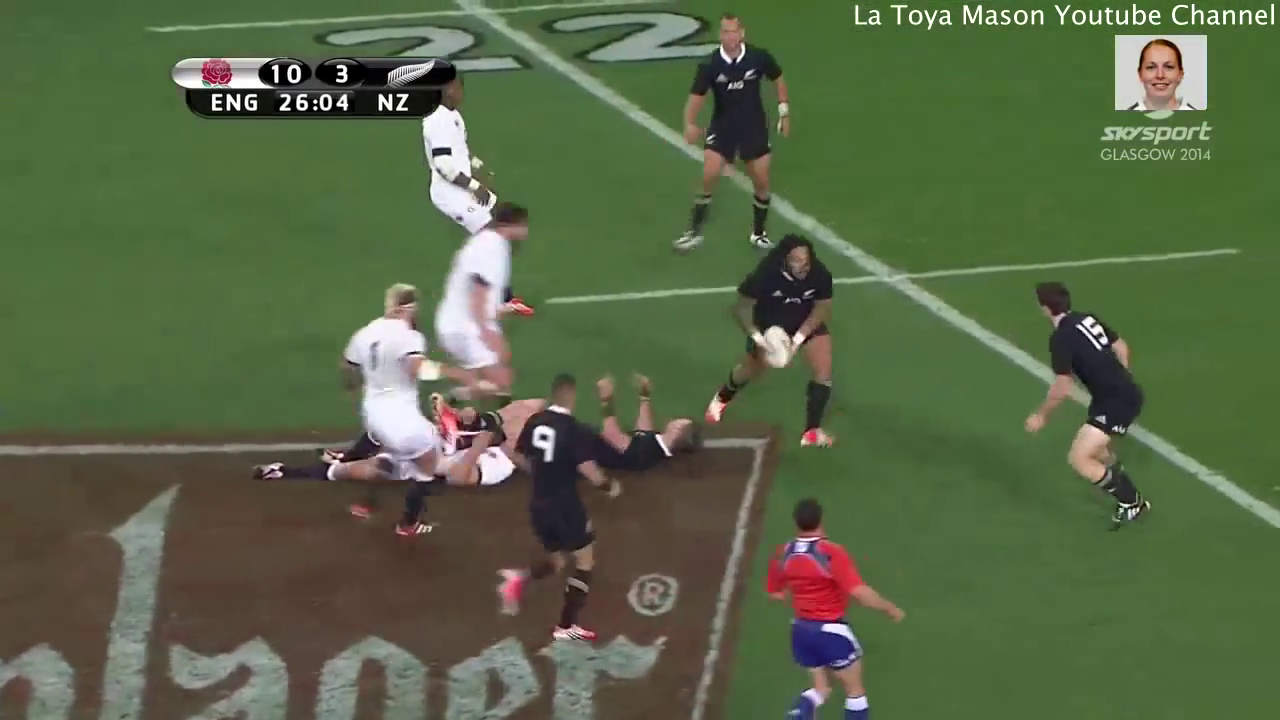ball: (753, 314, 798, 380)
player: (1011, 266, 1167, 539), (694, 215, 863, 466), (748, 489, 923, 720), (483, 364, 623, 649), (405, 63, 543, 324), (660, 1, 798, 258), (393, 197, 548, 423), (336, 267, 453, 551), (230, 404, 523, 496), (528, 368, 704, 471)
